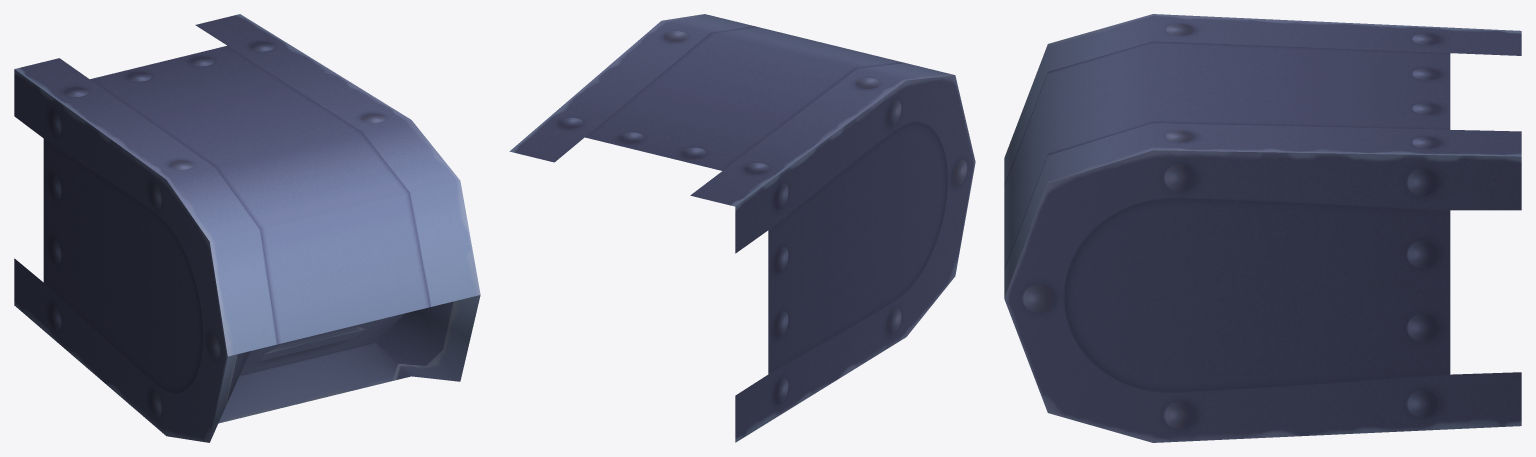
The model's file is mailbox.glb.
3 renders of one model, left to right at view 1: azimuth 30°, elevation 25°; view 2: azimuth 150°, elevation 25°; view 3: azimuth 270°, elevation 25°, orthographic. The views are drawn at different scales.
Parts seen in each view (by area): view 1: city_base.mailbox-MeshNodes["mailbox_01"]; view 2: city_base.mailbox-MeshNodes["mailbox_01"]; view 3: city_base.mailbox-MeshNodes["mailbox_01"].
Boxes of the visible parts, x1,y1,x2,y2 form: city_base.mailbox-MeshNodes["mailbox_01"]: (14, 14, 480, 442); city_base.mailbox-MeshNodes["mailbox_01"]: (509, 14, 975, 442); city_base.mailbox-MeshNodes["mailbox_01"]: (1004, 14, 1521, 442).
Bounding box in the file's own units: 0.8064 × 0.7816 × 1.25.
1 material, 1 textured.
